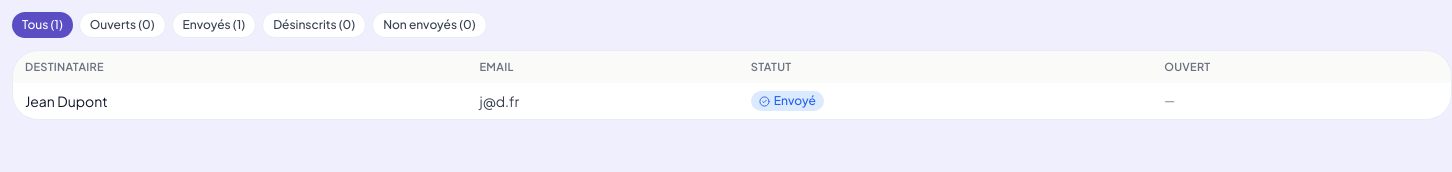
it: RecipientsTable › filtre sans match → message neutre dans la catégorie
Click the tab "Ouverts (0)". click: click(122, 25)
box: [79,12,166,38]
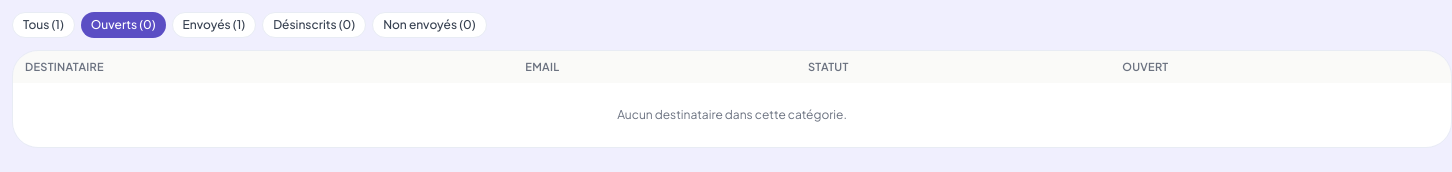
Check: the text "Aucun destinataire dans cette catégorie." is shown, box [13,83,1451,147]
